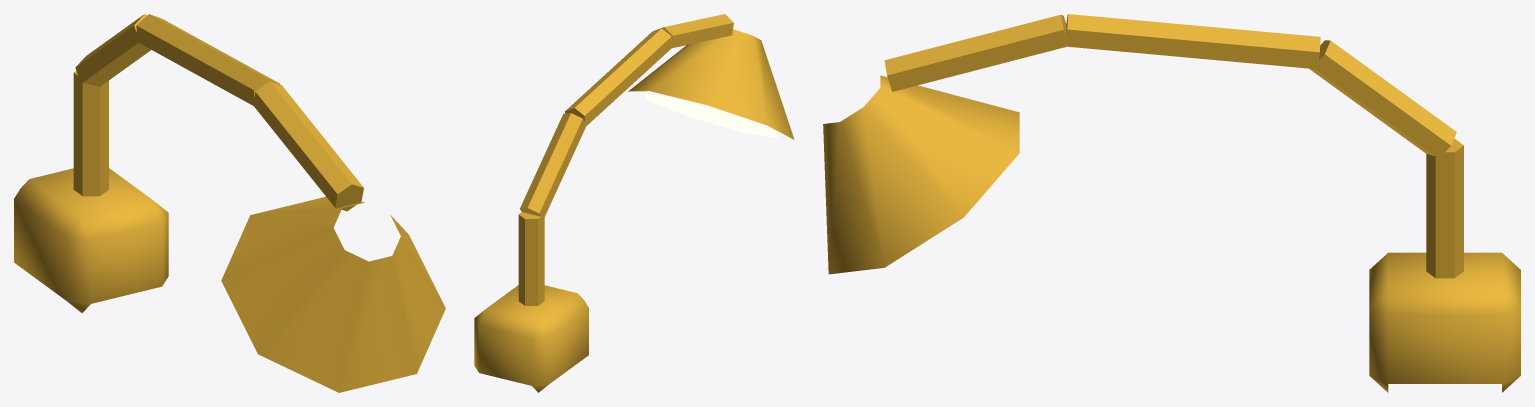
File: board_lamp.glb
3 renders of one model, left to right at view 1: azimuth 30°, elevation 25°; view 2: azimuth 150°, elevation 25°; view 3: azimuth 270°, elevation 25°, orthographic. The views are drawn at different scales.
Visible parts, largest first — view 1: board_lamp; view 2: board_lamp; view 3: board_lamp.
Part boxes in pixels (x1,y1,x2,y2): board_lamp: (14, 14, 445, 392); board_lamp: (474, 14, 794, 392); board_lamp: (823, 14, 1520, 392).
Bounding box in the file's own units: 0.1848 × 0.3149 × 0.5527.
Materials: 2 (2 with a texture image).
